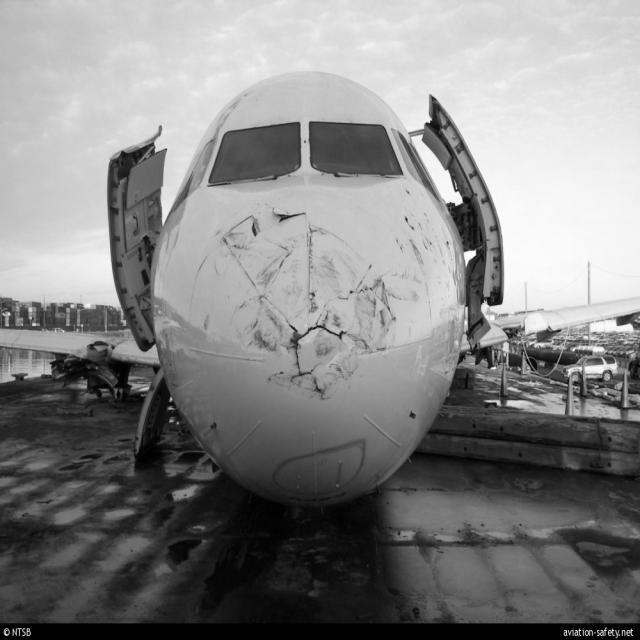crack: (221, 209, 404, 404)
